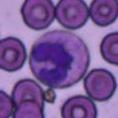N: (30, 30, 90, 88)
